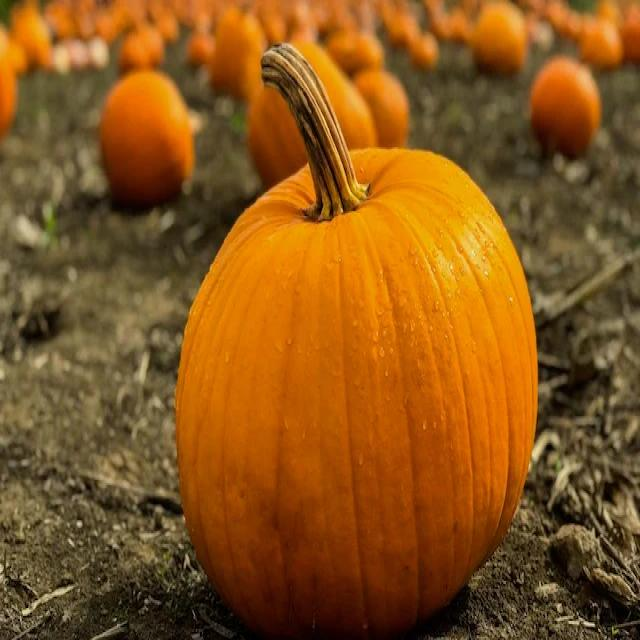pumpkin: (176, 46, 538, 635), (100, 70, 194, 206), (294, 44, 378, 148), (530, 56, 600, 155), (249, 86, 306, 187), (210, 8, 266, 99), (354, 70, 409, 147), (471, 2, 526, 73), (381, 6, 439, 69), (1, 26, 28, 137), (10, 2, 51, 69), (328, 28, 382, 75), (580, 18, 624, 70), (119, 24, 164, 72), (95, 0, 146, 41), (424, 0, 472, 43), (95, 0, 140, 43), (310, 0, 356, 37), (545, 0, 585, 41), (430, 8, 472, 43), (149, 0, 179, 43), (0, 58, 16, 137), (44, 0, 76, 39), (288, 0, 318, 41), (409, 32, 439, 69), (621, 6, 640, 63), (526, 14, 554, 49), (188, 32, 215, 66), (73, 0, 96, 39), (351, 0, 378, 33), (95, 8, 120, 43), (261, 12, 286, 44), (156, 10, 179, 43), (598, 0, 621, 27), (459, 0, 483, 21)
